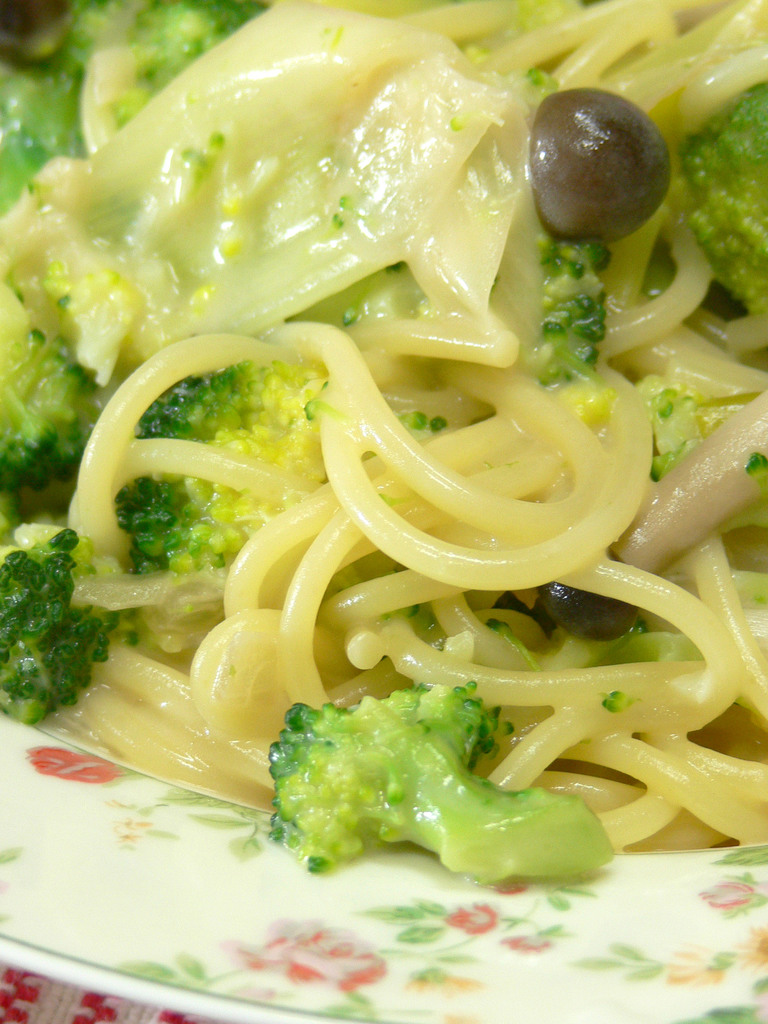pasta: (1, 0, 762, 960)
